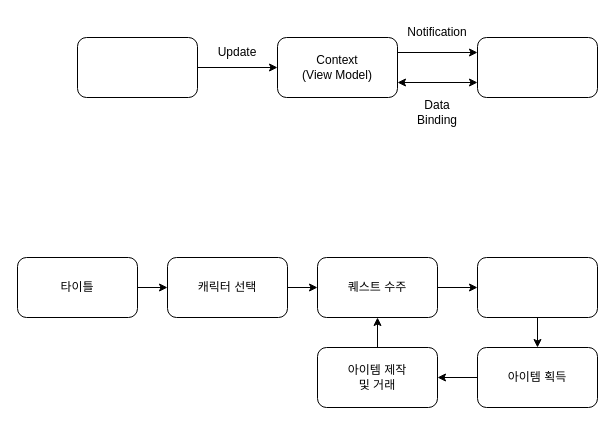
Image size: 615x425. Some labels were removed from this diagram. Here are the shapes that lost their labels. From the top down, the centre of each, then its label:
At point (137, 67): "HP, SP, Inventory".
At point (537, 67): "HP Bar, SP Bar, Item Slot, ...(View)".
At point (537, 287): "몬스터 토벌".
